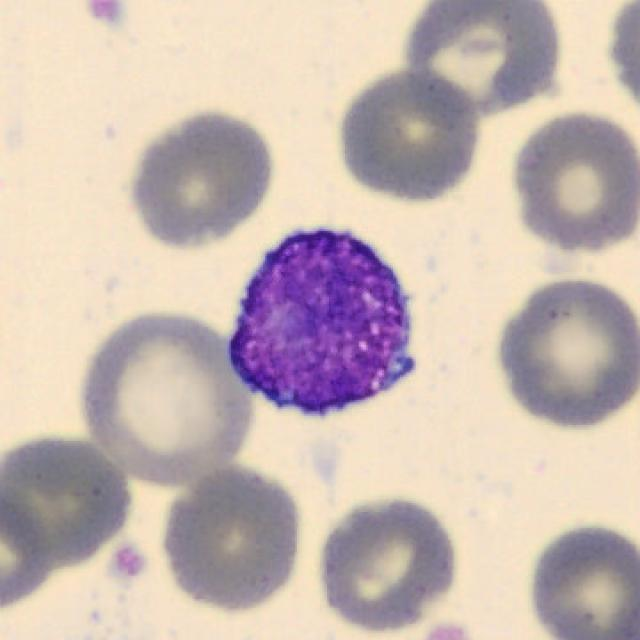Linfocito: (226, 229, 414, 412)
